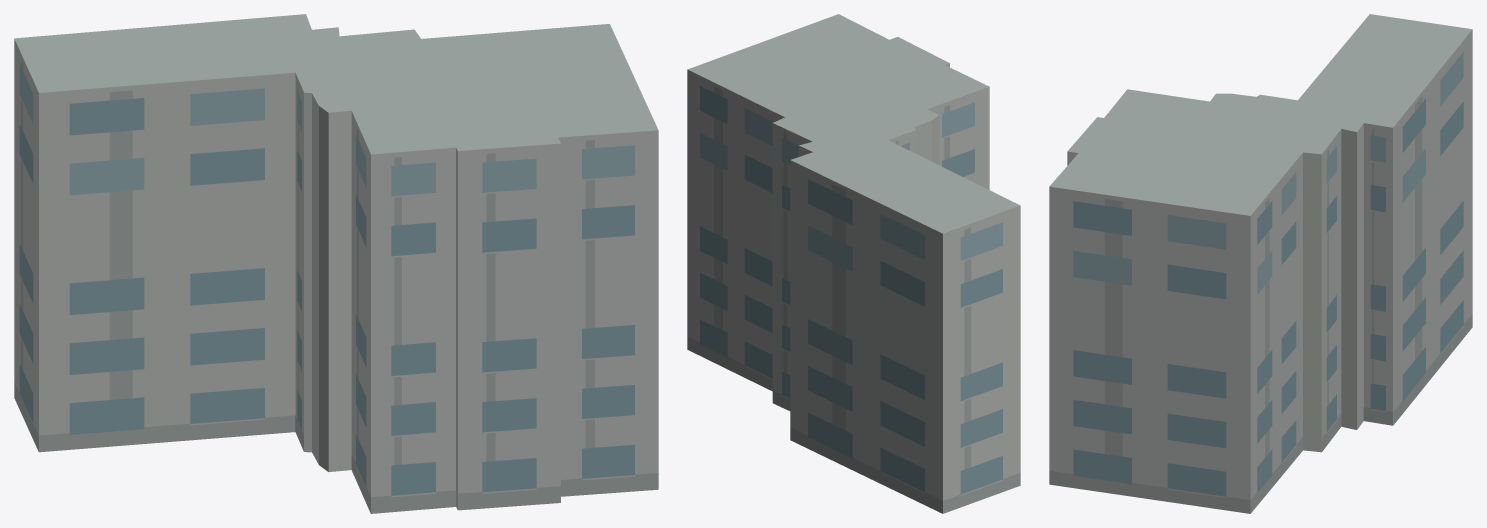
File: survey-upis-32829330.glb
3 renders of one model, left to right at view 1: azimuth 30°, elevation 25°; view 2: azimuth 150°, elevation 25°; view 3: azimuth 270°, elevation 25°, orthographic. The views are drawn at different scales.
Parts seen in each view (by area): view 1: survey-upis-32829330.tmp; view 2: survey-upis-32829330.tmp; view 3: survey-upis-32829330.tmp.
Part boxes in pixels (x1,y1,x2,y2): survey-upis-32829330.tmp: [14, 14, 658, 513]; survey-upis-32829330.tmp: [687, 14, 1020, 513]; survey-upis-32829330.tmp: [1049, 14, 1472, 513].
Bounding box in the file's own units: 25.88 × 17.8 × 22.93.
